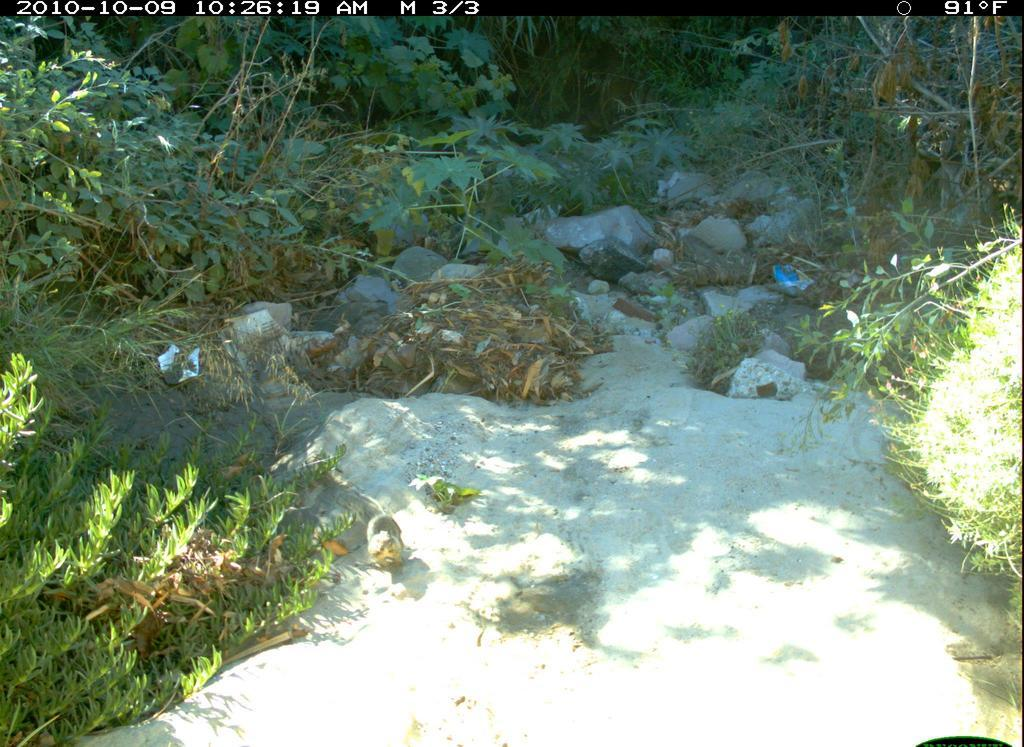squirrel: (341, 481, 411, 583)
